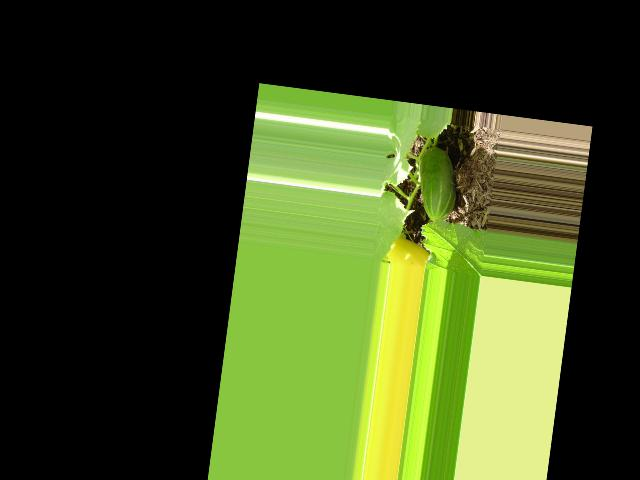cucumber: (413, 145, 462, 223)
